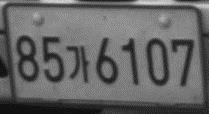0: (145, 37, 169, 86)
1: (120, 37, 139, 85)
5: (41, 35, 64, 83)
6: (94, 36, 118, 84)
7: (170, 38, 195, 87)
8: (15, 34, 38, 81)
가: (66, 45, 90, 83)
